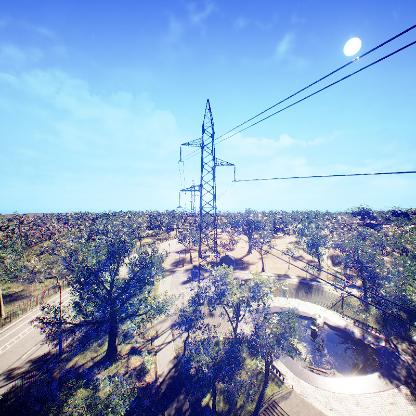tower: (175, 98, 239, 293)
